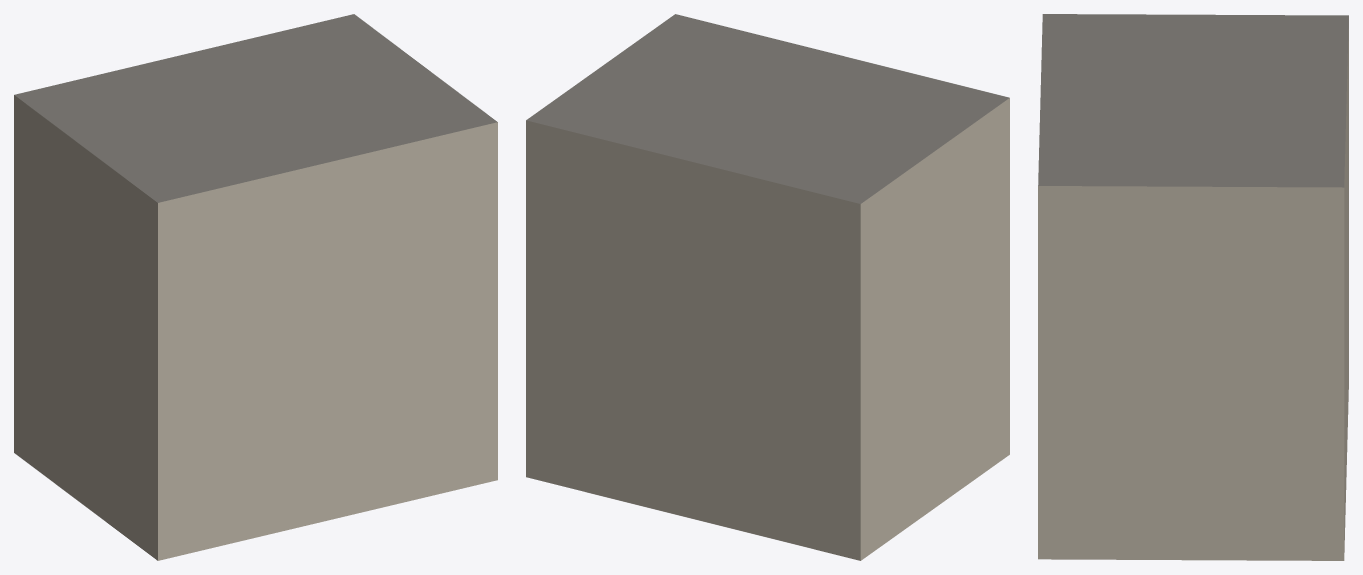
3 views of the same model, side by side, from view 1: azimuth 30°, elevation 25°; view 2: azimuth 150°, elevation 25°; view 3: azimuth 270°, elevation 25° (orthographic). The views are drawn at different scales.
Parts seen in each view (by area): view 1: HP-w442027168; view 2: HP-w442027168; view 3: HP-w442027168.
Boxes of the visible parts, left/top/right/bottom form: HP-w442027168: left=14, top=14, right=497, bottom=560; HP-w442027168: left=526, top=14, right=1009, bottom=560; HP-w442027168: left=1038, top=14, right=1348, bottom=560.
Size of the model in its own units: 17.93 by 18 by 13.57.
